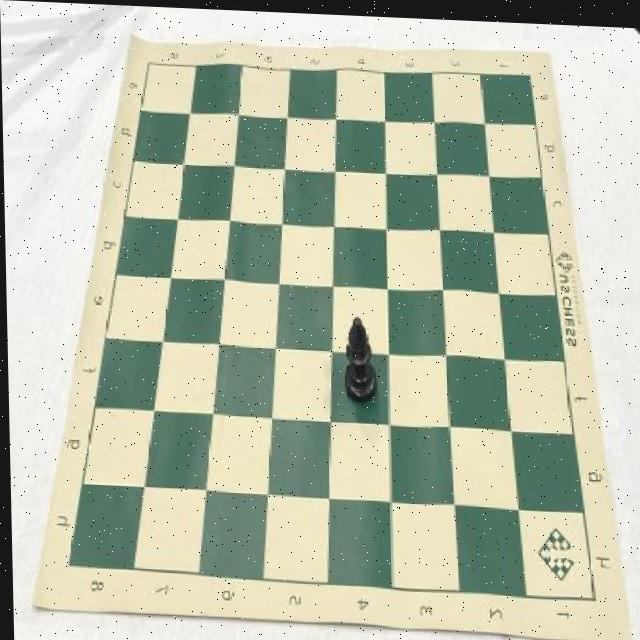bishop: (340, 311, 376, 401)
